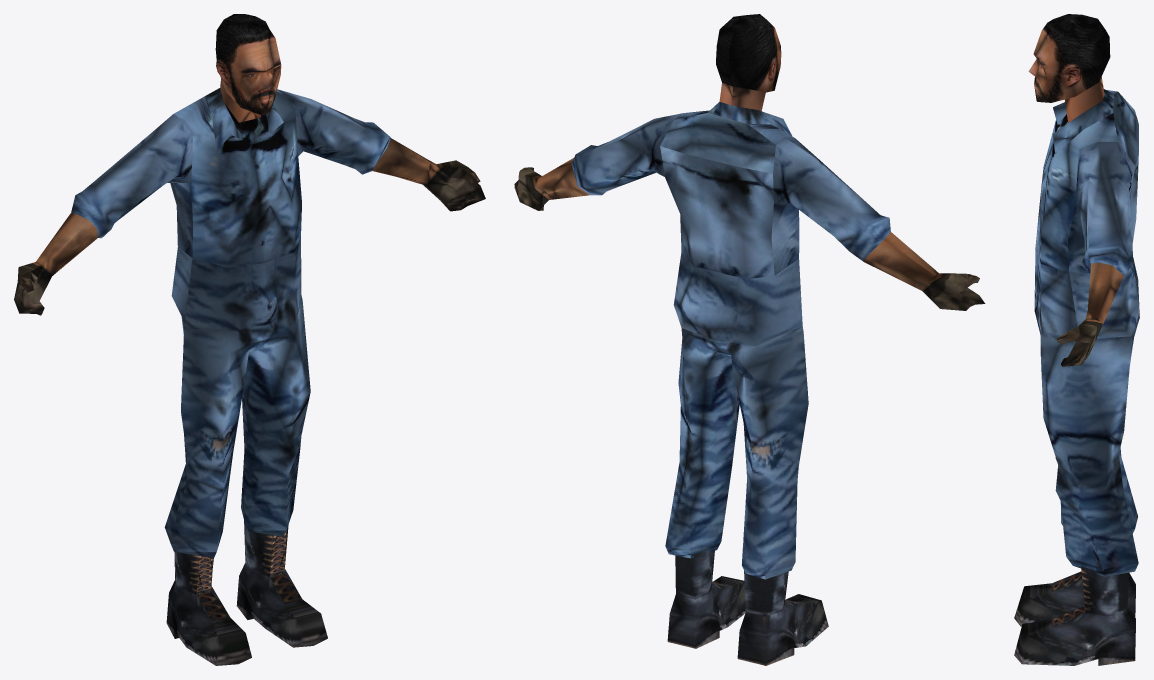
The model's file is IRWRK2.glb.
3 renders of one model, left to right at view 1: azimuth 30°, elevation 25°; view 2: azimuth 150°, elevation 25°; view 3: azimuth 270°, elevation 25°, orthographic.
Visible parts, largest first — view 1: _IRWRK02; view 2: _IRWRK02; view 3: _IRWRK02.
Boxes of the visible parts, left/top/right/bottom form: _IRWRK02: left=14, top=14, right=485, bottom=665; _IRWRK02: left=514, top=14, right=985, bottom=665; _IRWRK02: left=1014, top=14, right=1139, bottom=665.
Bounding box in the file's own units: 1.6 × 2.02 × 0.371.
Materials: 2 (2 with a texture image).
